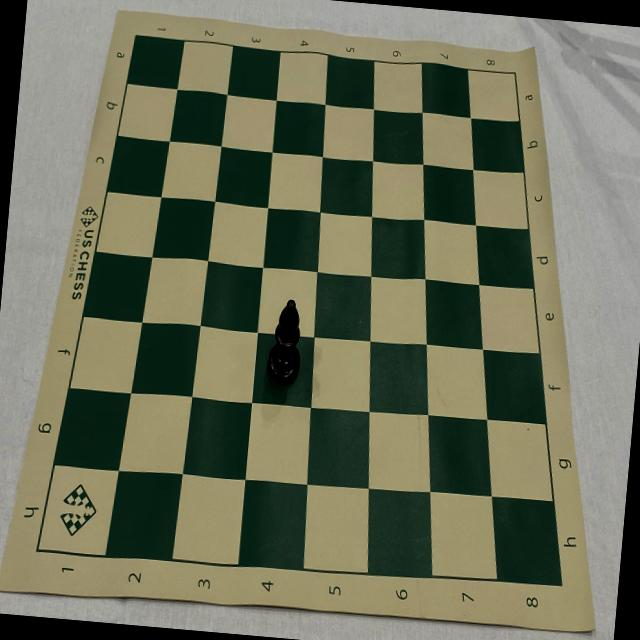black-bishop: (264, 296, 306, 387)
